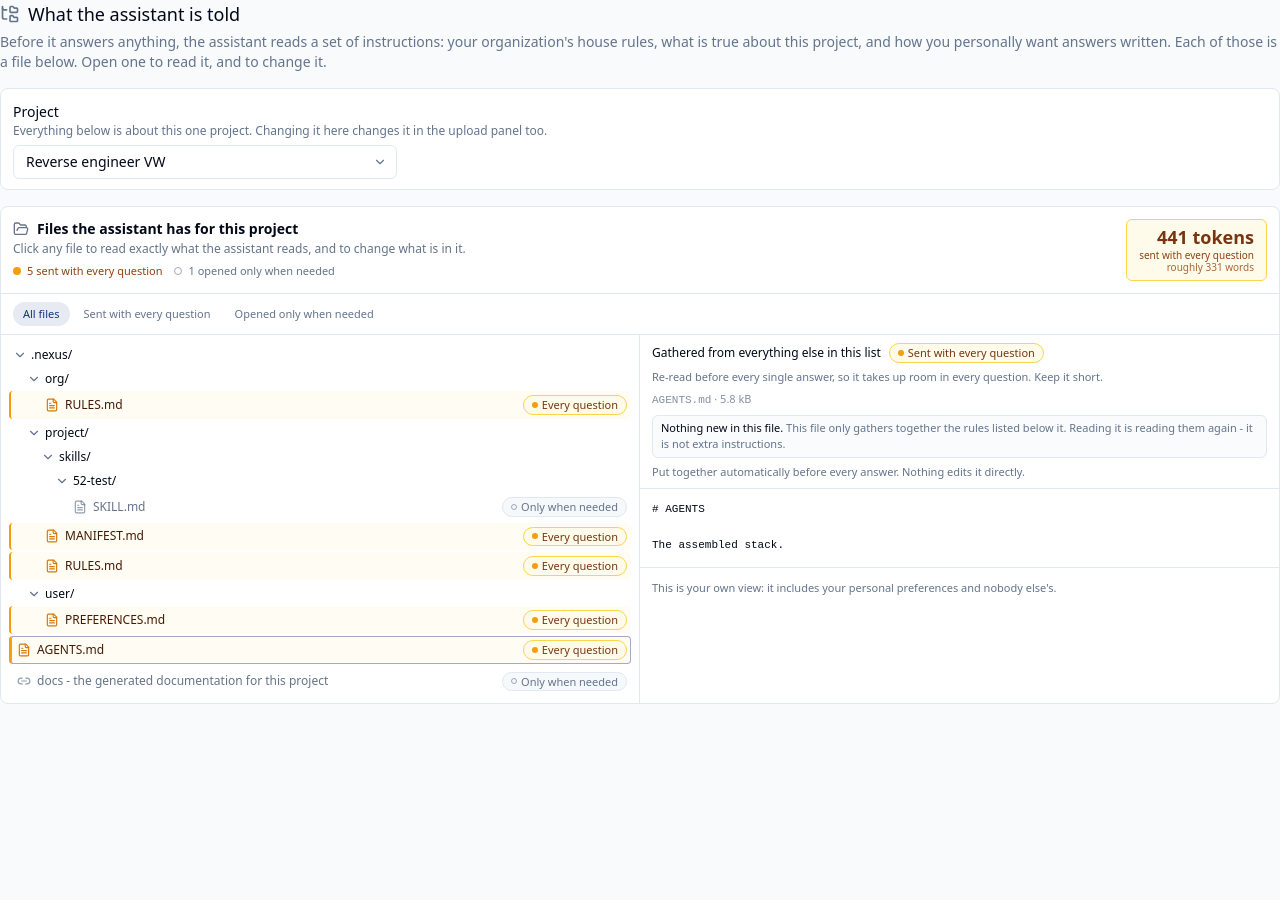
Test: ProjectStructurePanel › shows a suggested rule to a member but refuses the approval
The width and height of the screenshot is (1280, 900).
Click the 2nd button "RULES.md Every question": (94,566) [9,552,631,580]
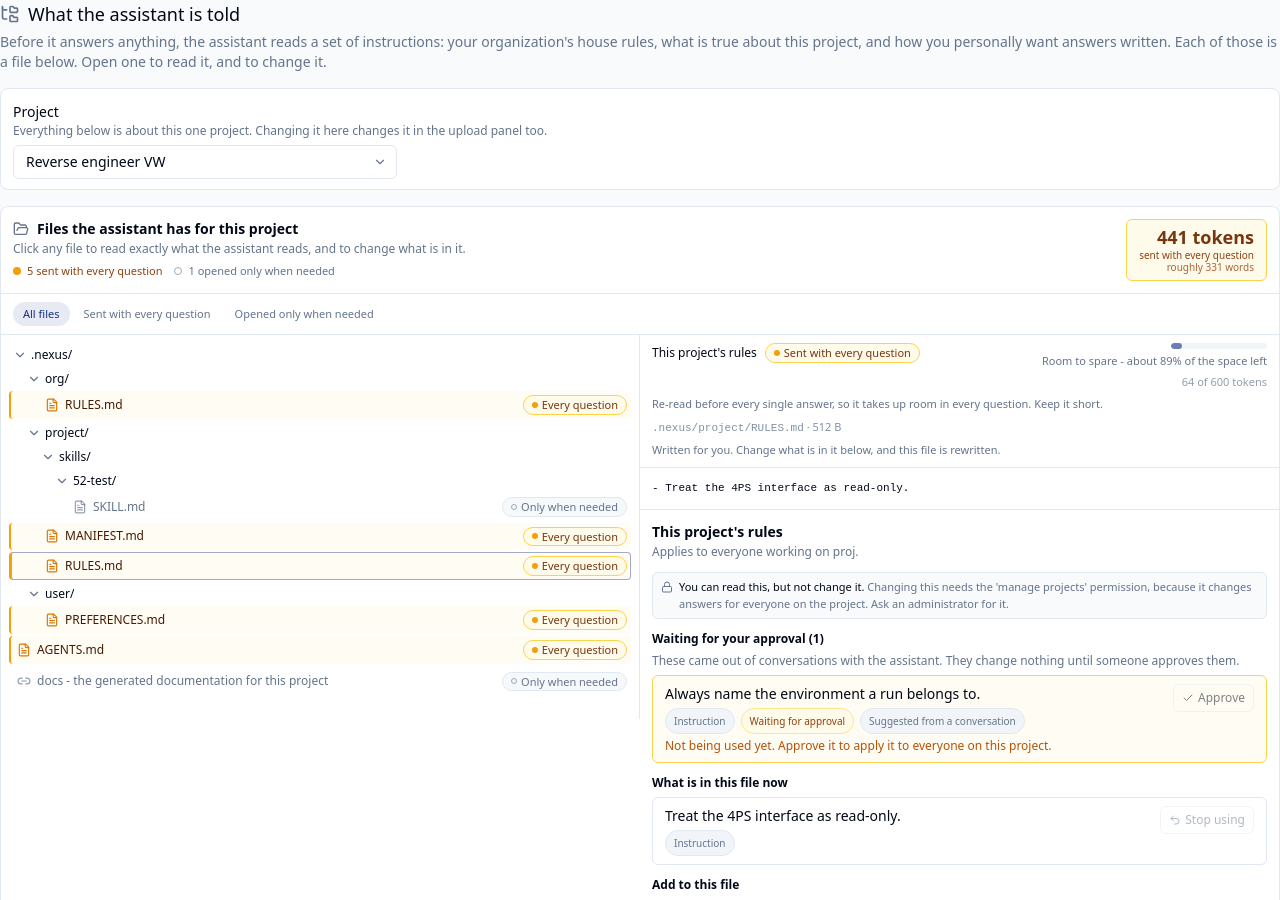
Now the button with aria-label "Approve rule 9" is disabled, box [1173,684,1254,712]
